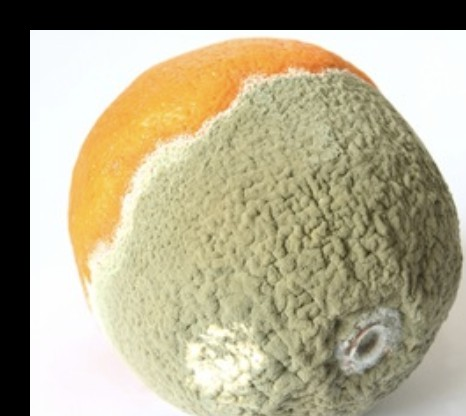rotten_orange: (68, 38, 466, 416)
